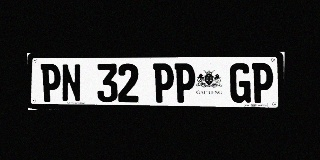2: (118, 63, 138, 102)
3: (97, 64, 117, 102)
G: (229, 63, 251, 103)
N: (61, 64, 81, 102)
P: (251, 63, 273, 103), (174, 63, 195, 103), (153, 63, 174, 102), (41, 64, 61, 102)
